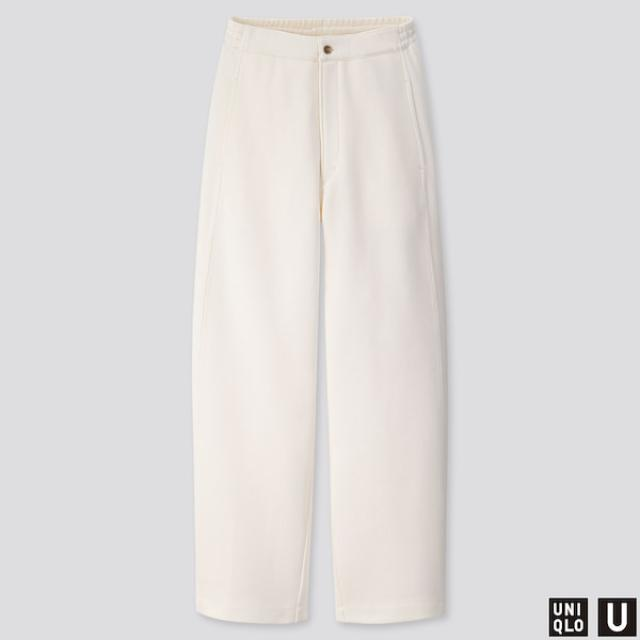long-pants: (191, 16, 454, 630)
